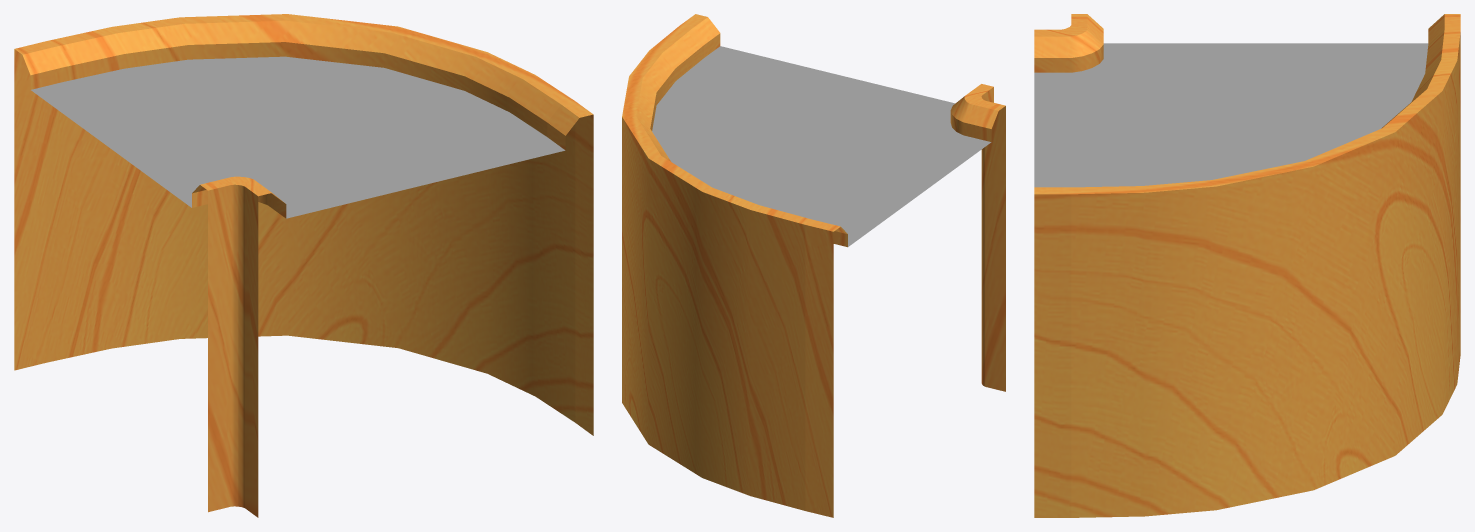
File: ConveryorBeltCorner.fbx
3 views of the same model, side by side, from view 1: azimuth 30°, elevation 25°; view 2: azimuth 150°, elevation 25°; view 3: azimuth 270°, elevation 25° (orthographic). The views are drawn at different scales.
Parts seen in each view (by area): view 1: corner; view 2: corner; view 3: corner.
Part boxes in pixels (left/top/right/bottom): corner: left=14, top=14, right=593, bottom=517; corner: left=622, top=14, right=1005, bottom=517; corner: left=1034, top=14, right=1460, bottom=517.
Size of the model in its own units: 1.31 by 1.1 by 1.31.
